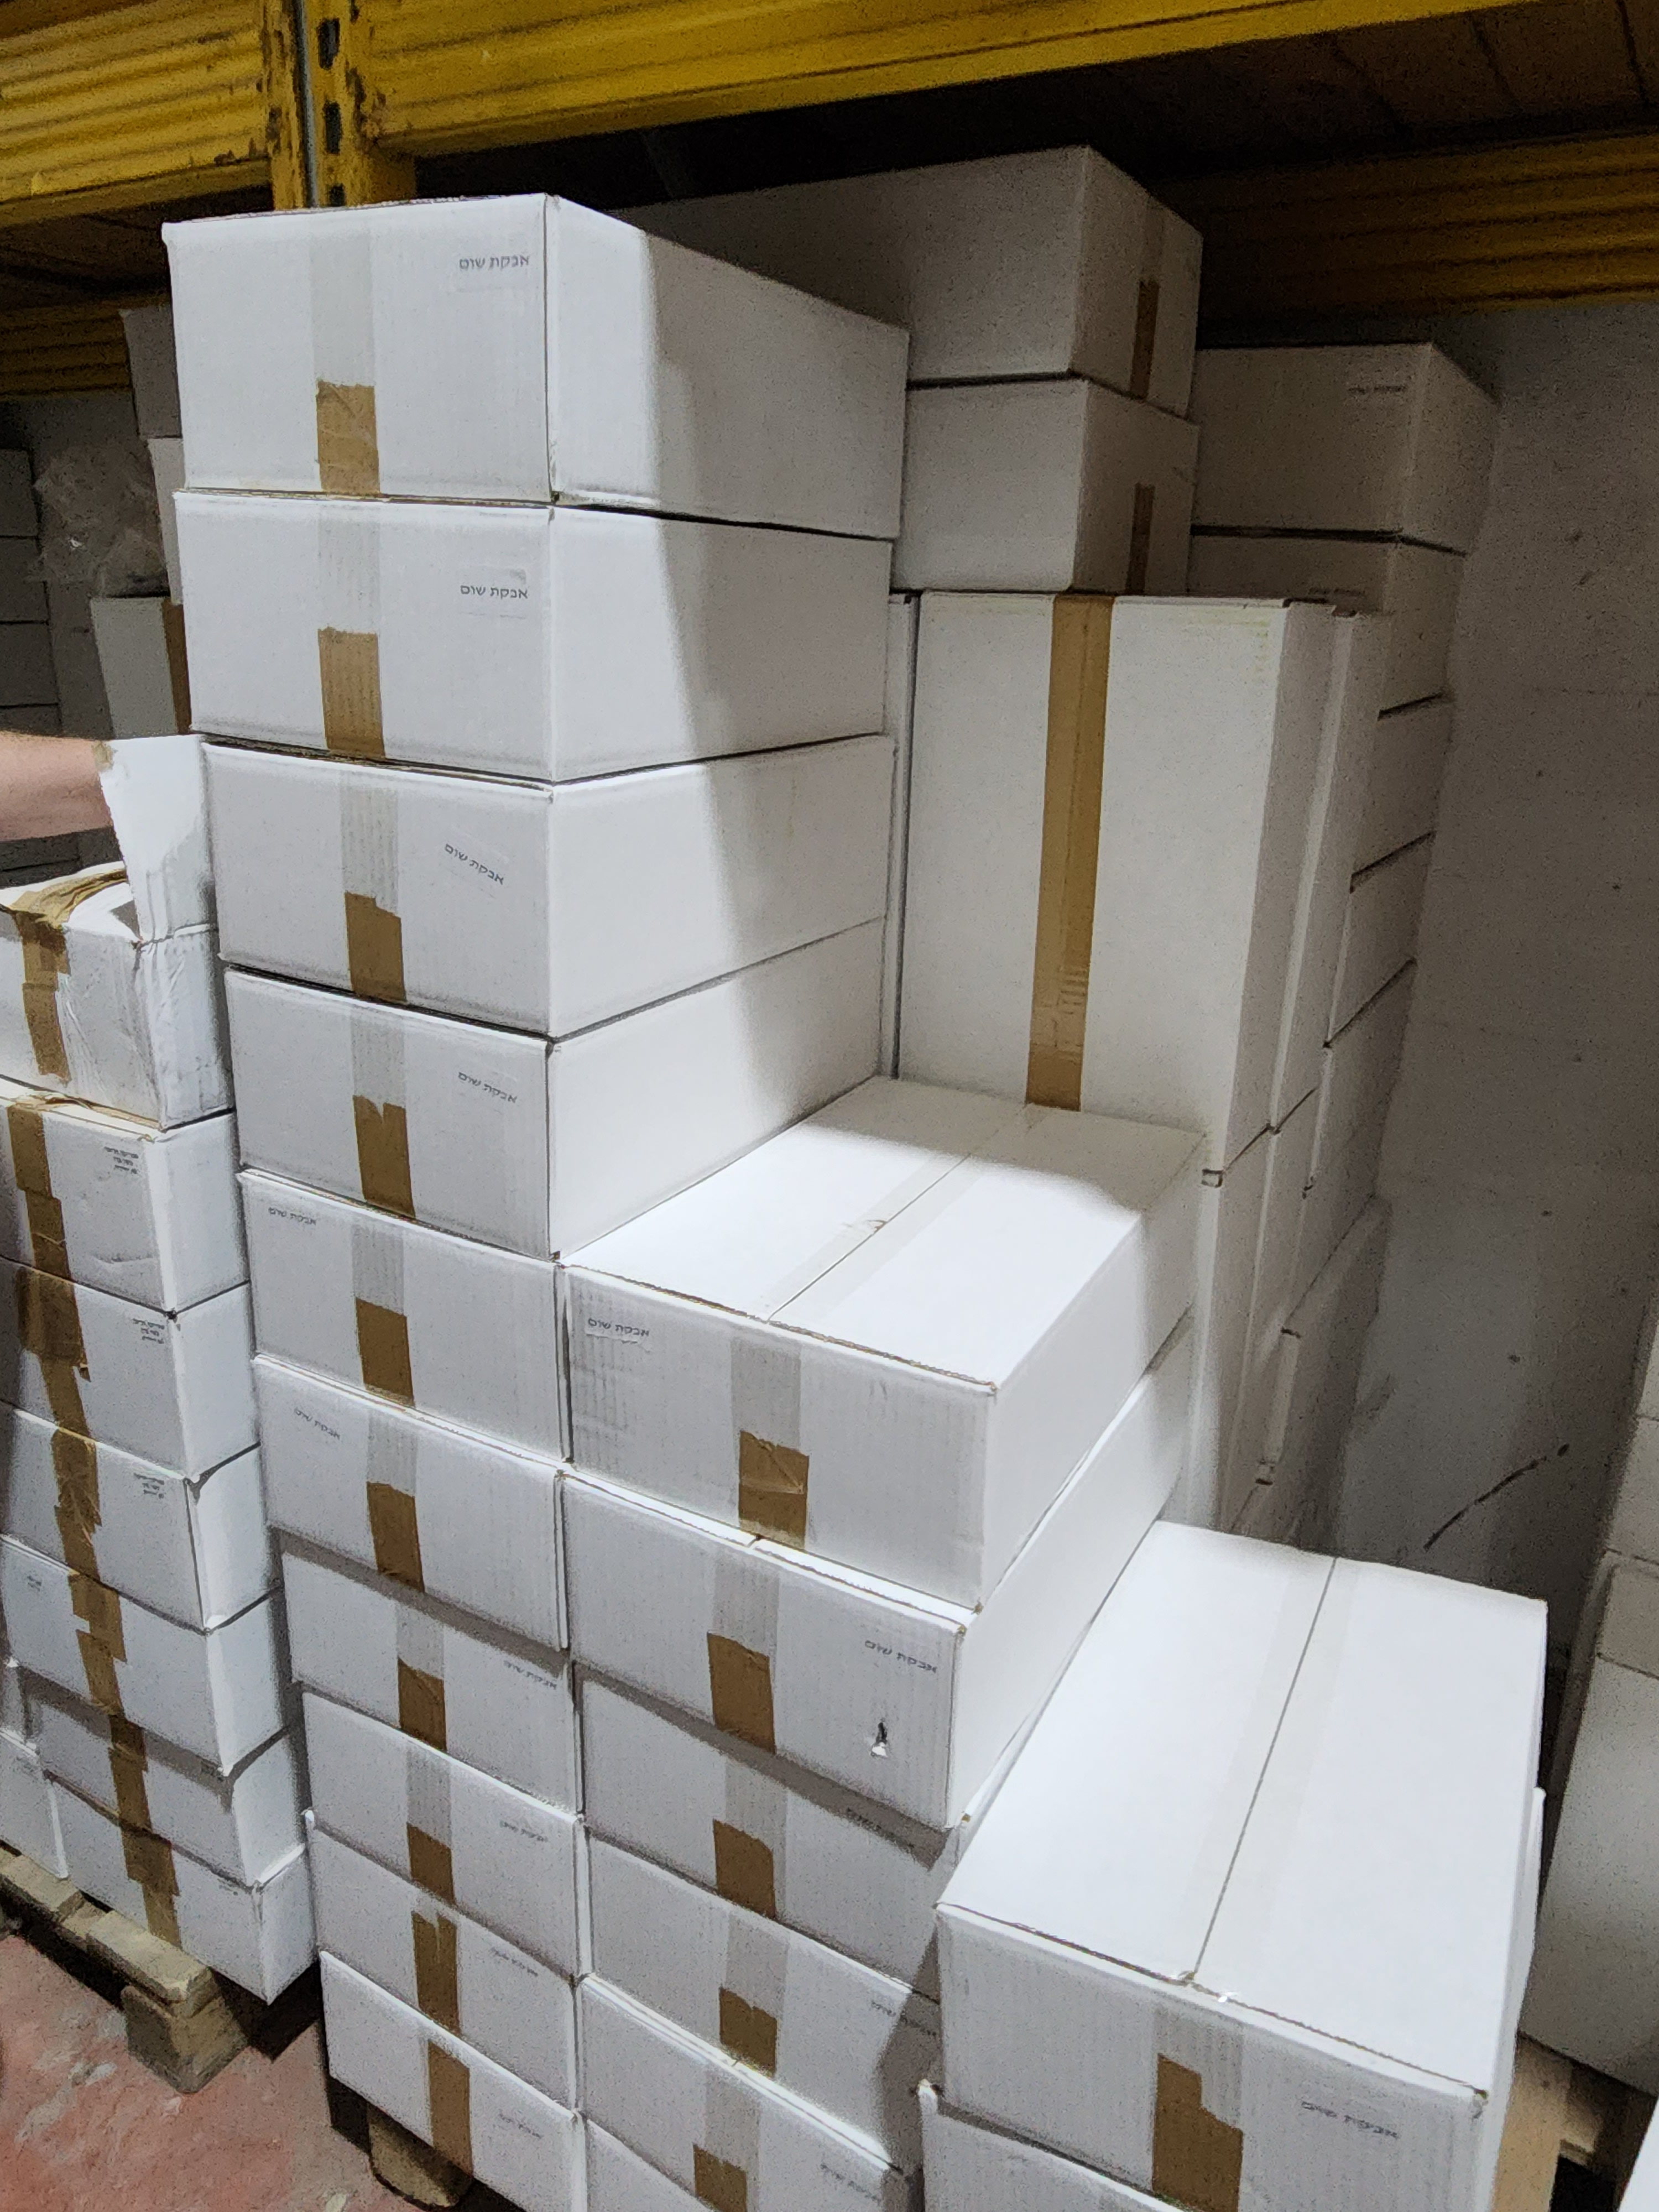box: (971, 1470, 1563, 2212), (561, 1066, 1230, 1609), (125, 158, 913, 554), (125, 472, 913, 798), (532, 1461, 1143, 1867), (141, 702, 913, 1012), (870, 582, 1283, 1141), (179, 949, 929, 1211), (61, 1047, 249, 1893), (190, 1155, 577, 1496), (235, 1339, 591, 1691), (558, 1961, 1016, 2212), (258, 1789, 592, 2095)
